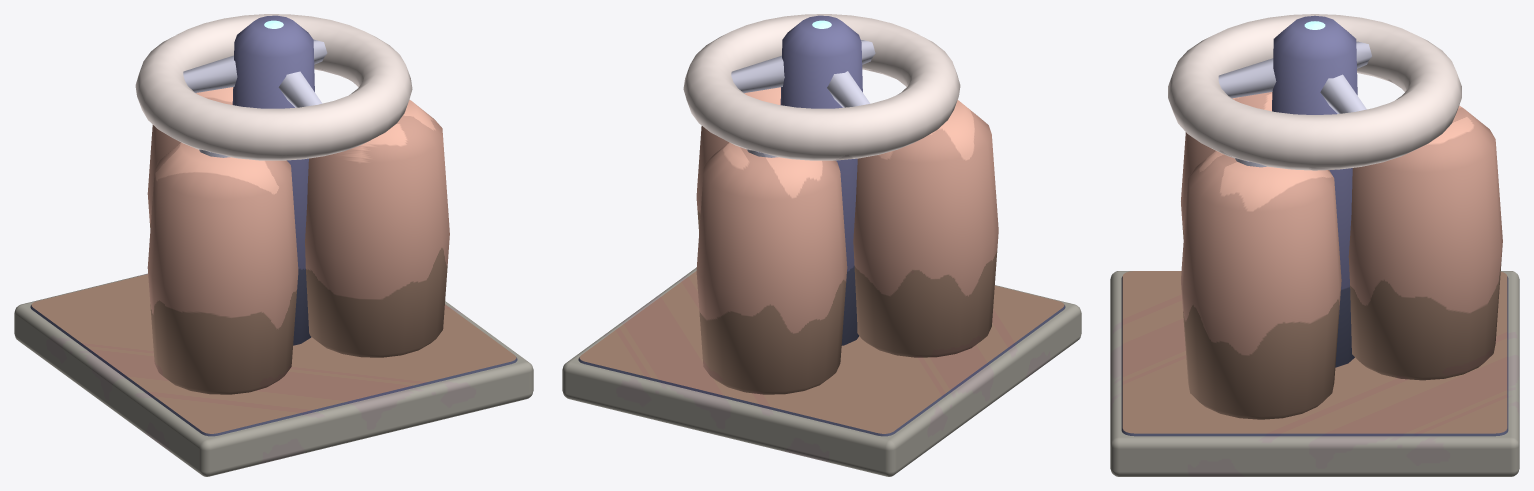
File: R4X_ChargeRegenerator.glb
The picture shows the model from 3 angles, left to right: view 1: azimuth 30°, elevation 25°; view 2: azimuth 150°, elevation 25°; view 3: azimuth 270°, elevation 25°; orthographic projection. The views are drawn at different scales.
Visible parts, largest first — view 1: R4X_ChargeRegenerator_Body; view 2: R4X_ChargeRegenerator_Body; view 3: R4X_ChargeRegenerator_Body.
Part boxes in pixels (bbox=[...]): R4X_ChargeRegenerator_Body: bbox=[14, 14, 533, 476]; R4X_ChargeRegenerator_Body: bbox=[562, 14, 1081, 476]; R4X_ChargeRegenerator_Body: bbox=[1110, 14, 1519, 476].
Bounding box in the file's own units: 0.514 × 0.515 × 0.514.
5 materials, 4 textured.
